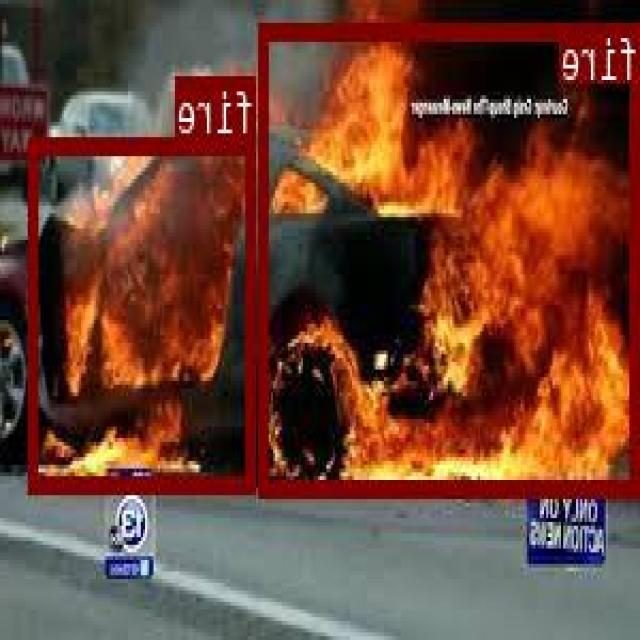fire: (262, 21, 640, 493), (31, 137, 258, 489)
